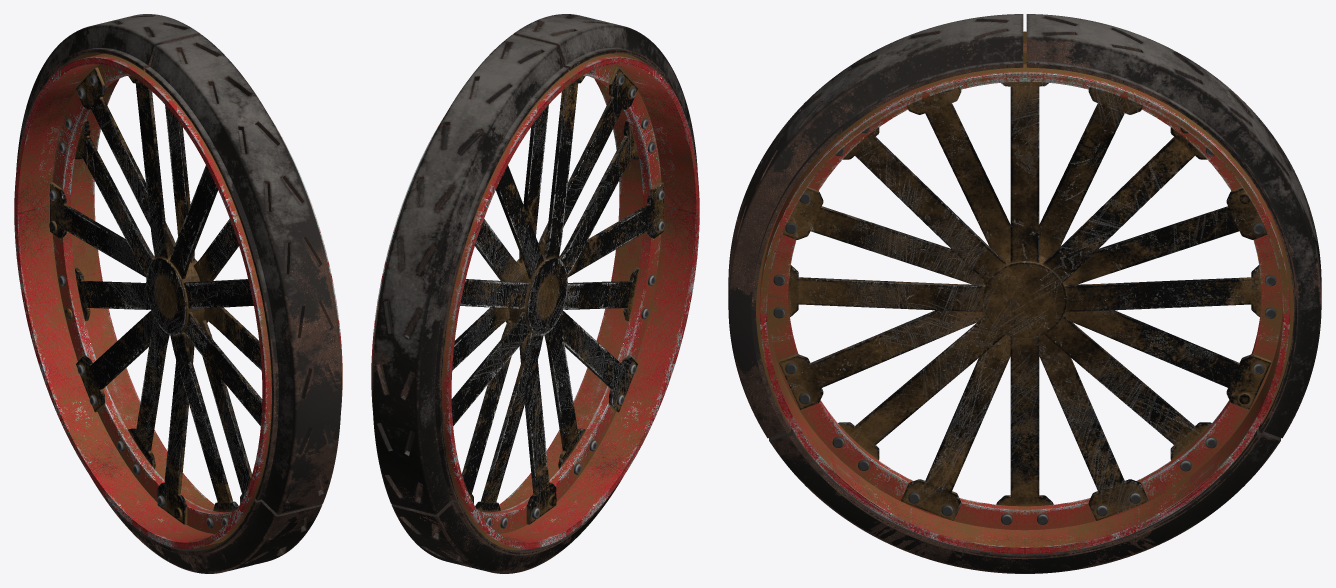
The model's file is LlantaDelanteraMoto.obj.
The picture shows the model from 3 angles, left to right: view 1: azimuth 30°, elevation 25°; view 2: azimuth 150°, elevation 25°; view 3: azimuth 270°, elevation 25°; orthographic projection. The views are drawn at different scales.
Visible parts, largest first — view 1: Extruded.004_Tire; view 2: Extruded.004_Tire; view 3: Extruded.004_Tire.
Part boxes in pixels (<box>): Extruded.004_Tire: <box>14,14,342,573</box>; Extruded.004_Tire: <box>371,14,699,573</box>; Extruded.004_Tire: <box>728,14,1321,573</box>.
Bounding box in the file's own units: 0.2404 × 1.52 × 1.52.
